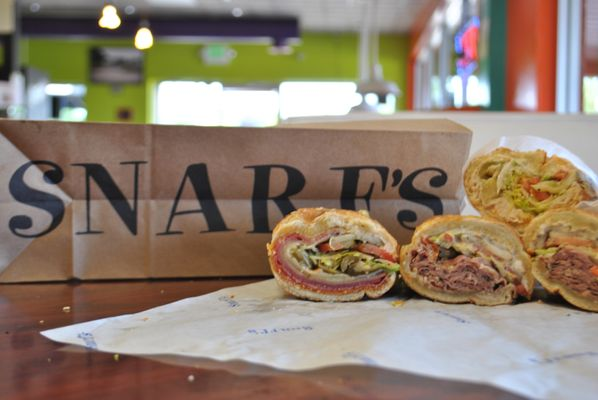soup: (266, 206, 401, 303)
